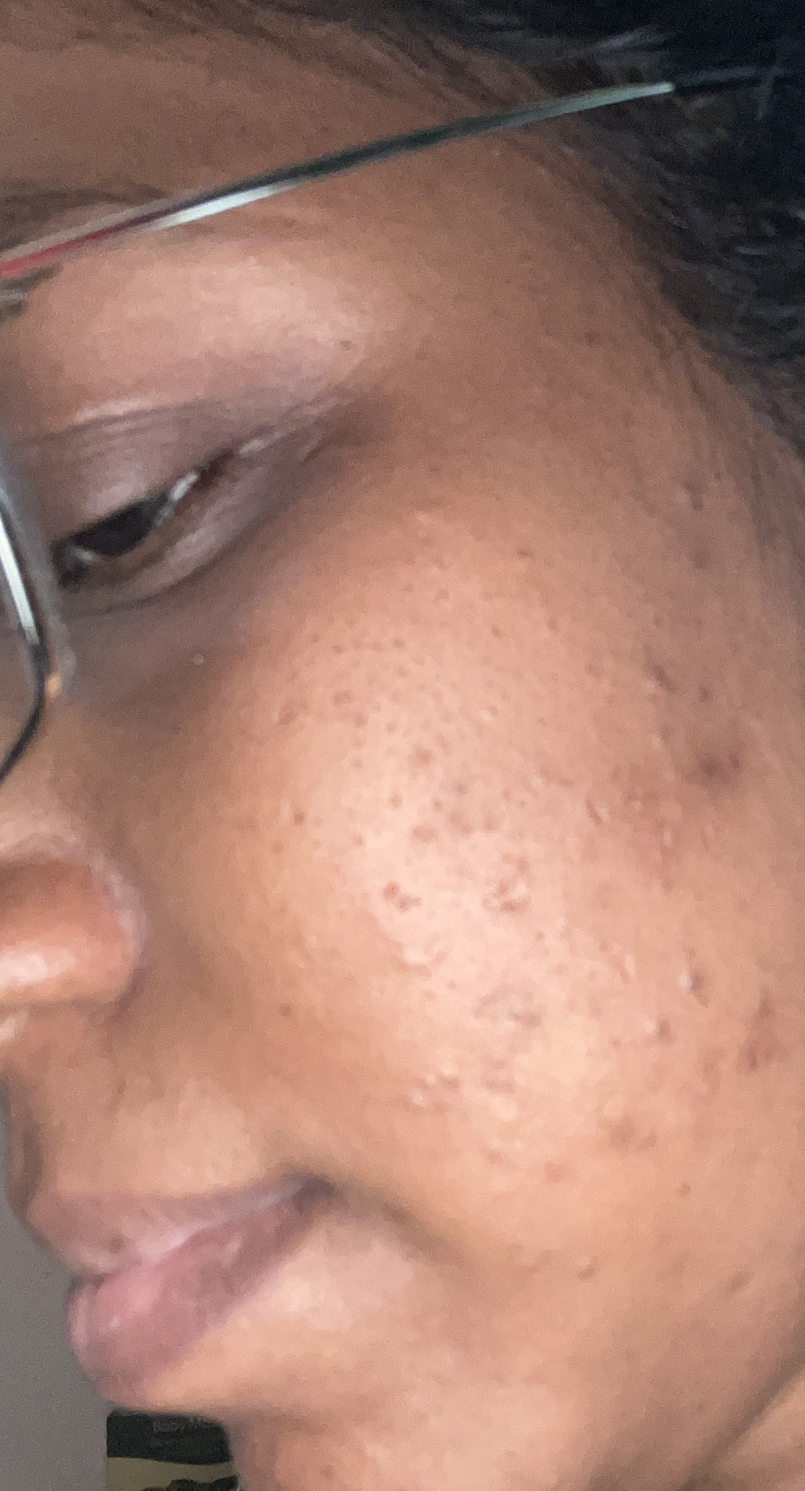papule: (363, 941, 452, 1007), (656, 473, 737, 545), (393, 1056, 491, 1115), (658, 938, 732, 1005), (604, 1084, 658, 1175), (631, 650, 690, 712), (639, 1002, 676, 1059)
